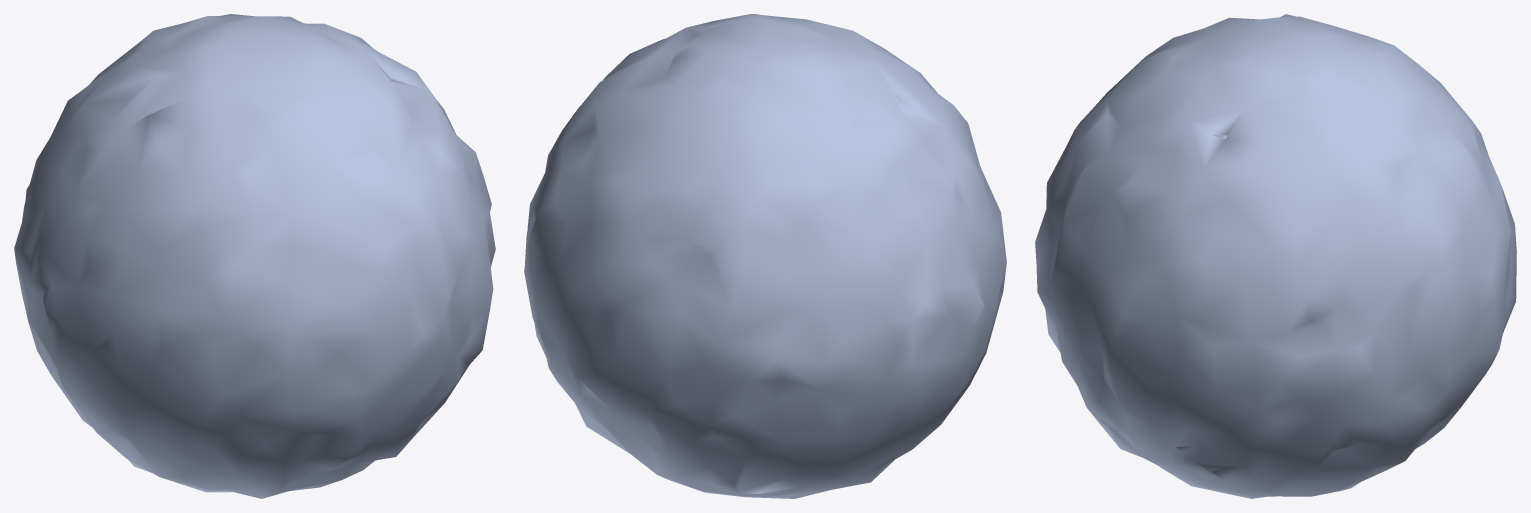
File: Snowball.fbx
3 views of the same model, side by side, from view 1: azimuth 30°, elevation 25°; view 2: azimuth 150°, elevation 25°; view 3: azimuth 270°, elevation 25° (orthographic).
Parts seen in each view (by area): view 1: Sphere; view 2: Sphere; view 3: Sphere.
Part boxes in pixels (<box>): Sphere: <box>14,14,495,498</box>; Sphere: <box>524,14,1006,498</box>; Sphere: <box>1035,14,1516,498</box>.
Bounding box in the file's own units: 215 × 212 × 210.
1 material, 1 textured.
